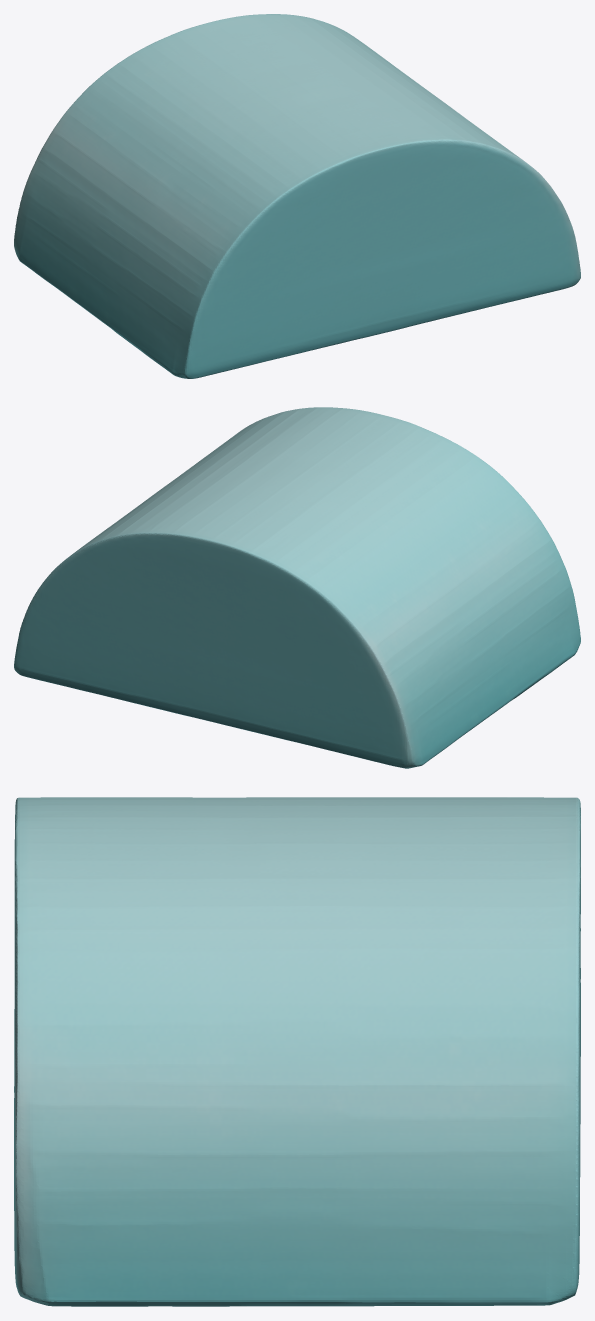
File: obj3_sam3d_obb.glb
3 views of the same model, one above another, from view 1: azimuth 30°, elevation 25°; view 2: azimuth 150°, elevation 25°; view 3: azimuth 270°, elevation 25° (orthographic). The views are drawn at different scales.
Visible parts, largest first — view 1: world; view 2: world; view 3: world.
Boxes of the visible parts, box(x1,y1,x2,y2) form: world: box(14, 14, 580, 378); world: box(14, 407, 580, 768); world: box(14, 797, 580, 1306).
Size of the model in its own units: 0.0426 by 0.0188 by 0.0316.
